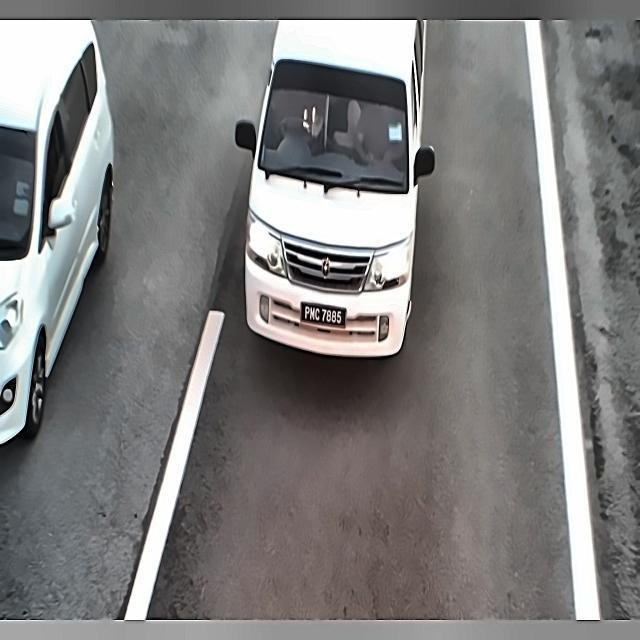car: (298, 302, 353, 335)
